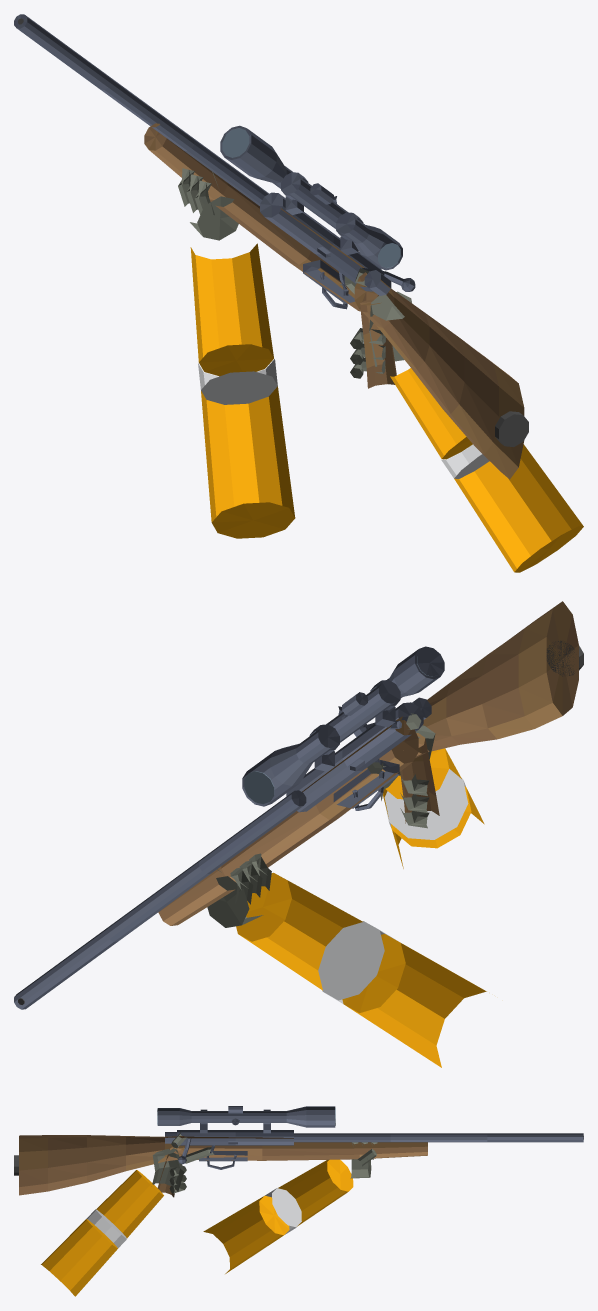
File: kivaari.glb
3 views of the same model, one above another, from view 1: azimuth 30°, elevation 25°; view 2: azimuth 150°, elevation 25°; view 3: azimuth 270°, elevation 25° (orthographic). The views are drawn at different scales.
Visible parts, largest first — view 1: runko, kasi_vasen, kasi_oikea, kiikaritahtain; view 2: runko, kasi_vasen, kiikaritahtain, kasi_oikea; view 3: runko, kasi_oikea, kasi_vasen, kiikaritahtain.
Part boxes in pixels (x1,y1,x2,y2): runko: (14, 14, 528, 479); kasi_vasen: (178, 168, 295, 538); kasi_oikea: (339, 268, 583, 572); kiikaritahtain: (220, 125, 402, 270); runko: (14, 601, 583, 1009); kasi_vasen: (207, 853, 486, 1067); kiikaritahtain: (242, 646, 444, 806); kasi_oikea: (367, 713, 484, 868); runko: (14, 1109, 583, 1197); kasi_oikea: (41, 1131, 214, 1296); kasi_vasen: (203, 1142, 377, 1273); kiikaritahtain: (157, 1106, 335, 1127).
Bounding box in the file's own units: 0.313 × 0.4253 × 1.17.
